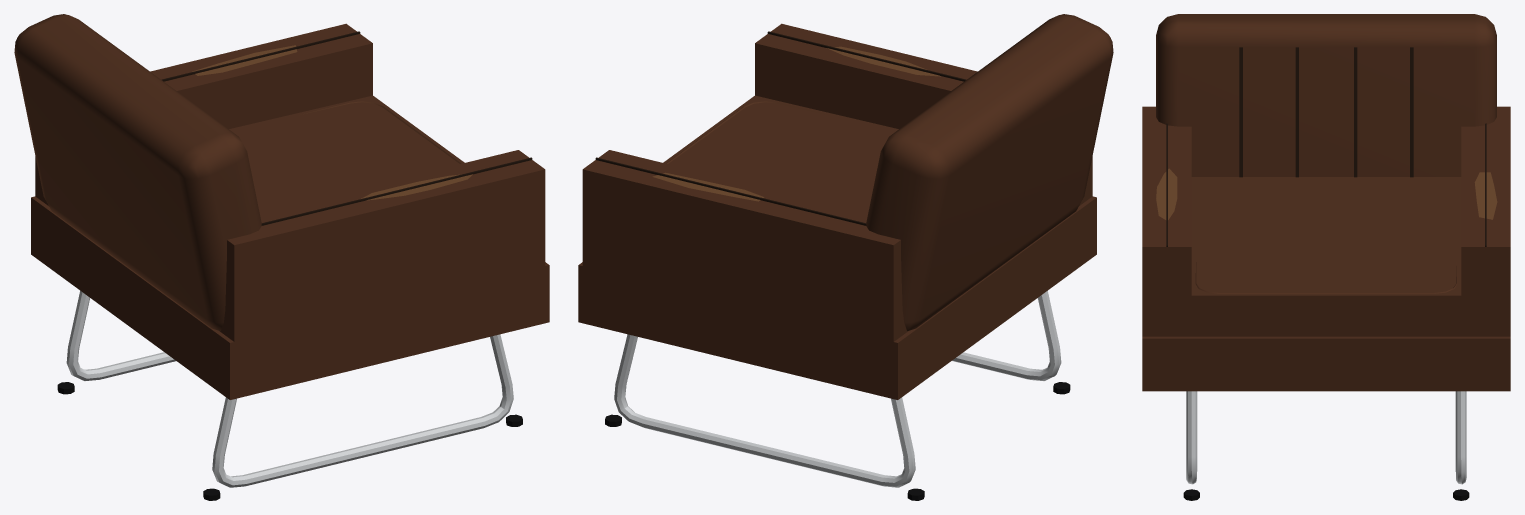
File: lounge_chair.glb
3 renders of one model, left to right at view 1: azimuth 30°, elevation 25°; view 2: azimuth 150°, elevation 25°; view 3: azimuth 270°, elevation 25°, orthographic. The views are drawn at different scales.
Visible parts, largest first — view 1: lounge_1, lounge_0, lounge_2, lounge_3, lounge_4; view 2: lounge_1, lounge_0, lounge_2, lounge_3, lounge_4; view 3: lounge_1, lounge_3, lounge_0, lounge_2.
Part boxes in pixels (left/top/right/bottom): lounge_1: left=14, top=14, right=549, bottom=399; lounge_0: left=66, top=291, right=513, bottom=487; lounge_2: left=192, top=45, right=472, bottom=200; lounge_3: left=161, top=31, right=532, bottom=225; lounge_4: left=57, top=382, right=522, bottom=500; lounge_1: left=578, top=14, right=1113, bottom=399; lounge_0: left=614, top=290, right=1061, bottom=487; lounge_2: left=652, top=46, right=940, bottom=201; lounge_3: left=595, top=31, right=966, bottom=225; lounge_4: left=605, top=382, right=1070, bottom=500; lounge_1: left=1142, top=14, right=1510, bottom=391; lounge_3: left=1166, top=47, right=1486, bottom=246; lounge_0: left=1186, top=391, right=1466, bottom=484; lounge_2: left=1156, top=168, right=1497, bottom=219.
Size of the model in its own units: 0.8379 by 0.837 by 0.82.
